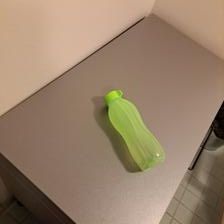bottle: (100, 84, 167, 176)
